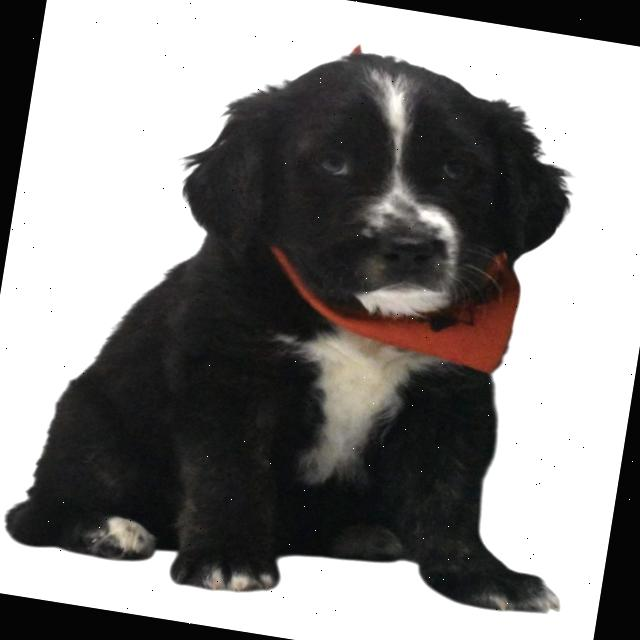golden_retriever_dog: (142, 21, 608, 367)
